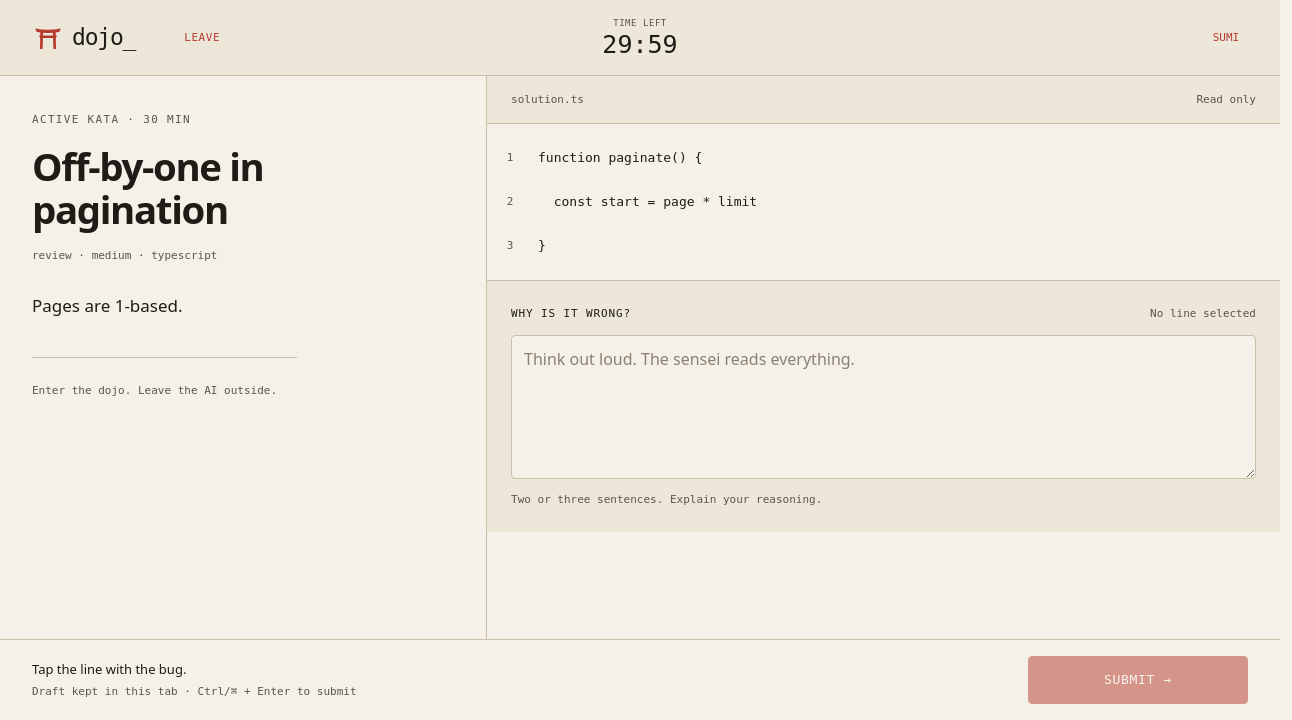
Test: KataActivePage › point kata › asks for the line when only the why is written
The width and height of the screenshot is (1292, 720).
Type "page 1 skips" into the text box labelled "Why is it wrong?" at (884, 407), box [511, 335, 1256, 479]
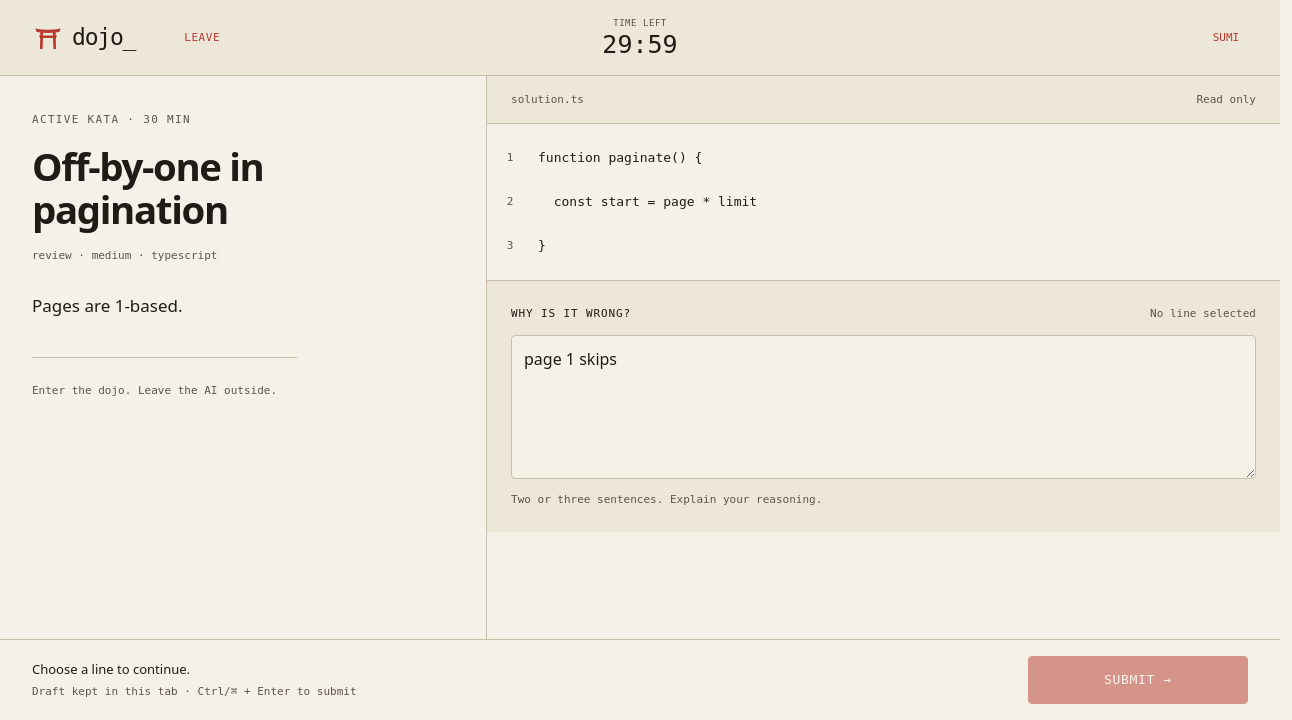
Check: the text "No line selected" is shown, box [1150, 305, 1256, 323]
Check: the text "Choose a line to continue." is shown, box [32, 660, 190, 678]
